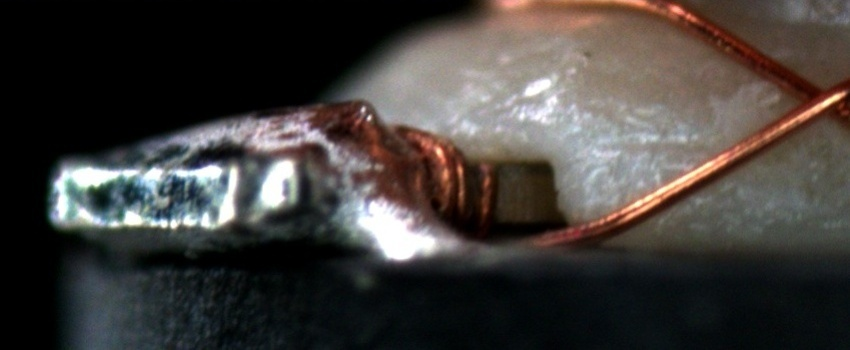CL: (773, 62, 847, 133)
DL: (588, 120, 738, 184)
TE: (384, 120, 505, 229)
